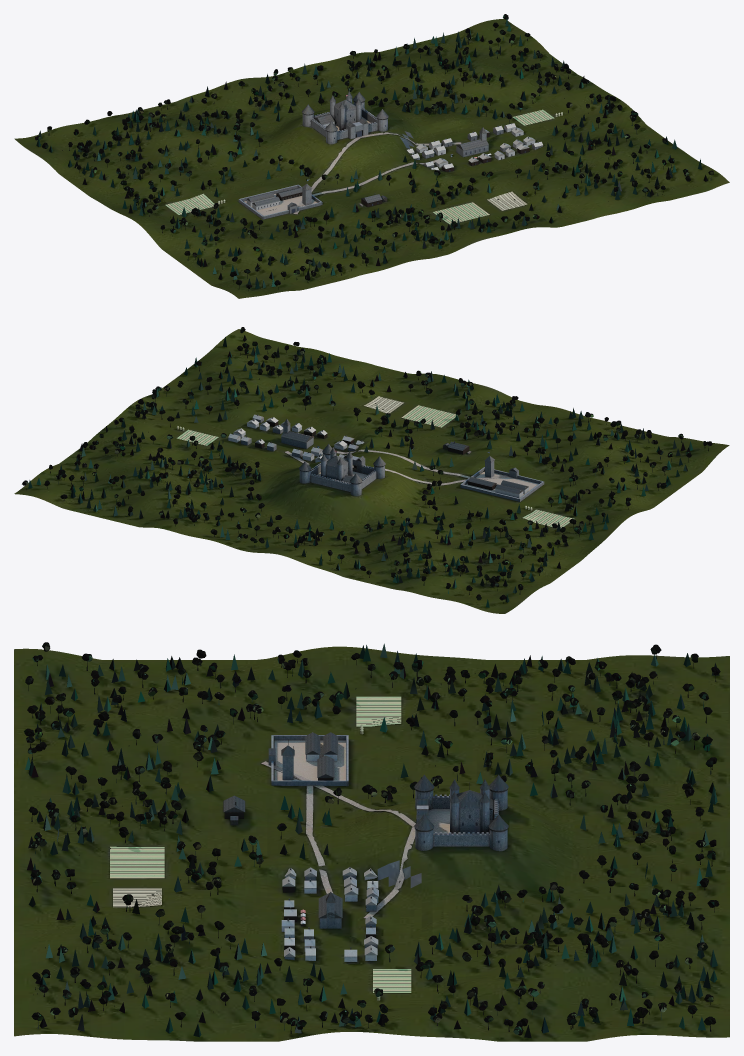
File: fief4_low.glb
The picture shows the model from 3 angles, top to bottom: view 1: azimuth 30°, elevation 25°; view 2: azimuth 150°, elevation 25°; view 3: azimuth 270°, elevation 25°; orthographic projection. The views are drawn at different scales.
Parts seen in each view (by area): view 1: site_terrain, props_trees, props_castle, props_village, props_fields, props_order, props_roads; view 2: site_terrain, props_trees, props_castle, props_village, props_fields, props_order, props_roads; view 3: site_terrain, props_trees, props_castle, props_fields, props_village, props_order, props_roads.
Part boxes in pixels (box(x1,y1,x2,y2)): site_terrain: box(14, 18, 729, 298); props_trees: box(35, 14, 713, 290); props_castle: box(302, 91, 388, 144); props_village: box(407, 123, 542, 171); props_fields: box(165, 109, 562, 224); props_order: box(238, 179, 322, 219); props_roads: box(293, 132, 461, 214); site_terrain: box(14, 329, 729, 613); props_trees: box(22, 327, 712, 607); props_castle: box(299, 444, 385, 496); props_village: box(228, 414, 364, 462); props_fields: box(176, 396, 574, 528); props_order: box(460, 452, 544, 501); props_roads: box(284, 449, 509, 485); site_terrain: box(14, 646, 729, 1041); props_trees: box(24, 642, 720, 1038); props_castle: box(414, 774, 508, 851); props_fields: box(110, 696, 411, 1000); props_village: box(281, 867, 378, 961); props_order: box(268, 732, 348, 786); props_roads: box(261, 761, 415, 918).
Bounding box in the file's own units: 656 × 59.57 × 520.
8 materials, 8 textured.
